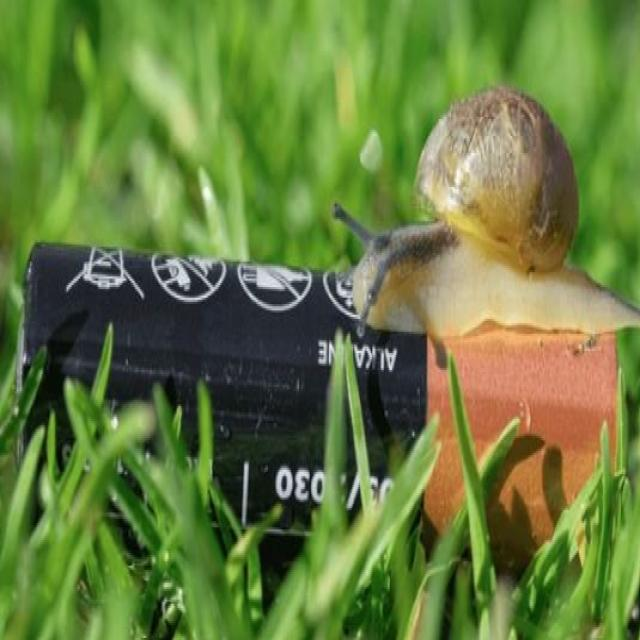electronic: (19, 226, 634, 608)
